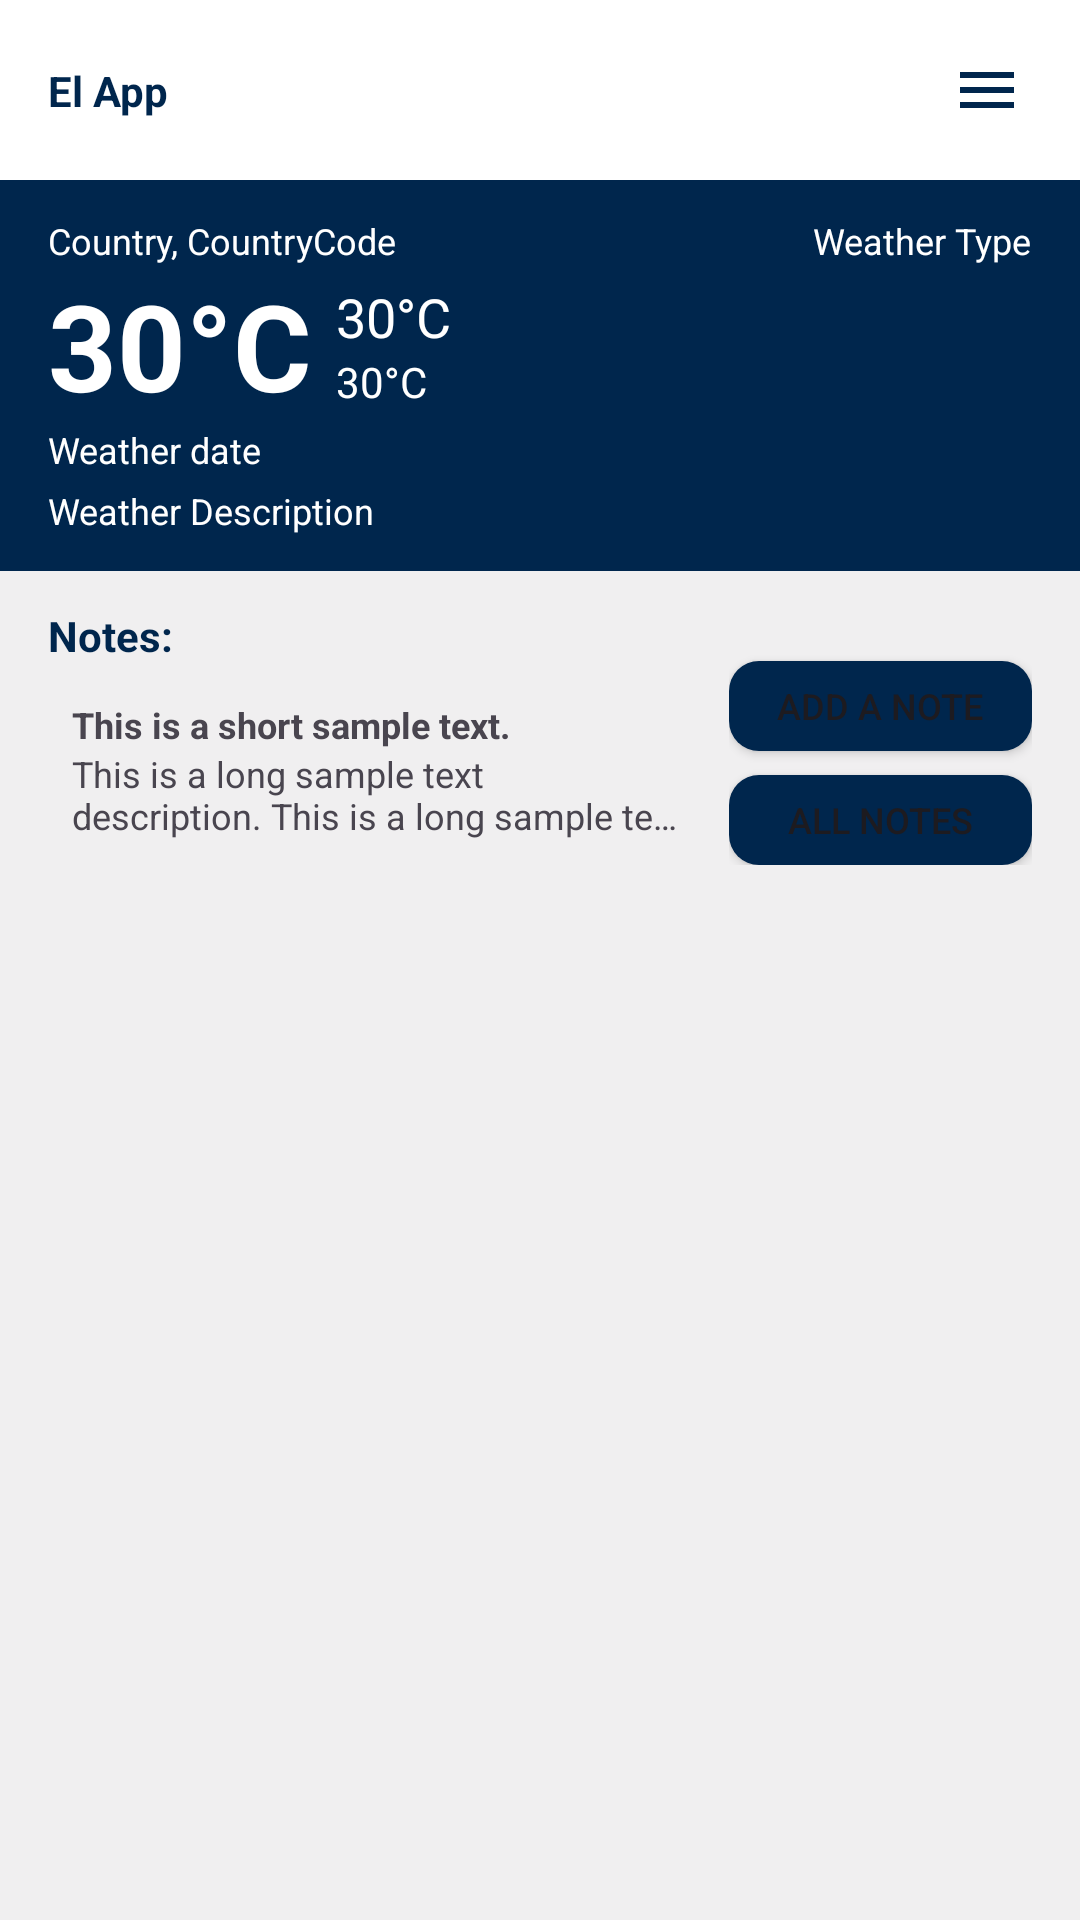

Where to tap for icons on this 1080x1920 app screen, as (x=x, y=y):
menu: (x=987, y=90)
